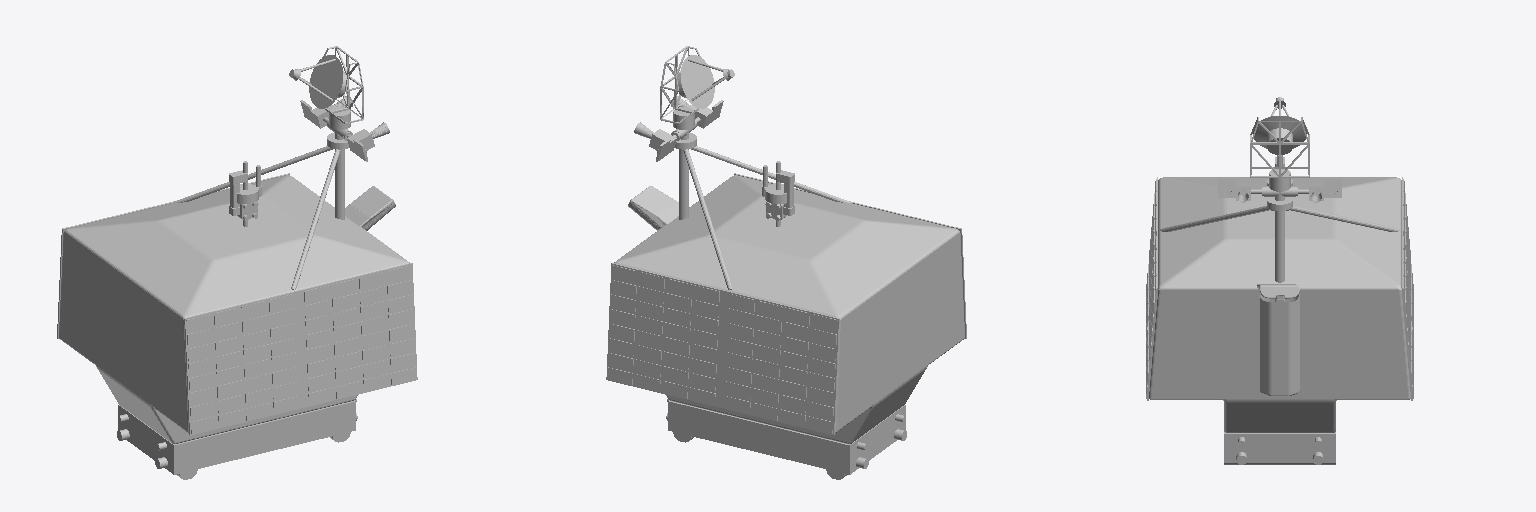
The model's file is viper_chassis.obj.
3 views of the same model, side by side, from view 1: azimuth 30°, elevation 25°; view 2: azimuth 150°, elevation 25°; view 3: azimuth 270°, elevation 25° (orthographic).
Parts seen in each view (by area): view 1: viper_chassis; view 2: viper_chassis; view 3: viper_chassis.
Boxes of the visible parts, box(x1,y1,x2,y2) form: viper_chassis: box(57, 46, 417, 479); viper_chassis: box(606, 46, 966, 479); viper_chassis: box(1146, 97, 1413, 464).
Size of the model in its own units: 1.75 by 2.26 by 1.53.